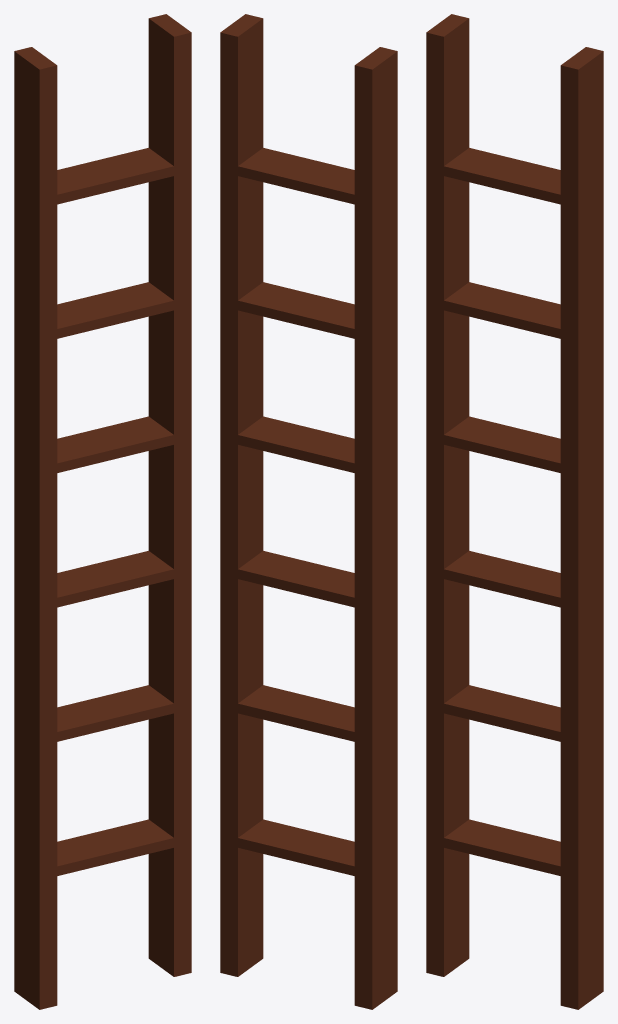
The model's file is Ladder.fbx.
The picture shows the model from 3 angles, left to right: view 1: azimuth 30°, elevation 25°; view 2: azimuth 150°, elevation 25°; view 3: azimuth 330°, elevation 25°; orthographic projection.
Visible parts, largest first — view 1: Cube; view 2: Cube; view 3: Cube.
Part boxes in pixels (x1,y1,x2,y2): Cube: (14,14,191,1009); Cube: (220,14,397,1009); Cube: (426,14,603,1009).
Size of the model in its own units: 67.91 by 401 by 19.57.
